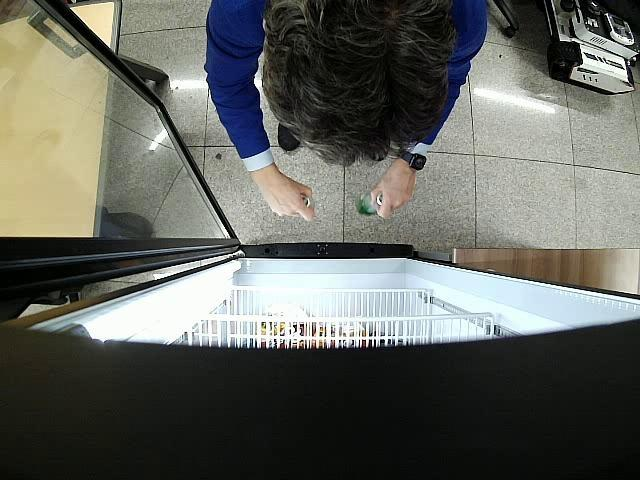18_trevi: (358, 192, 383, 216), (300, 192, 313, 210)
